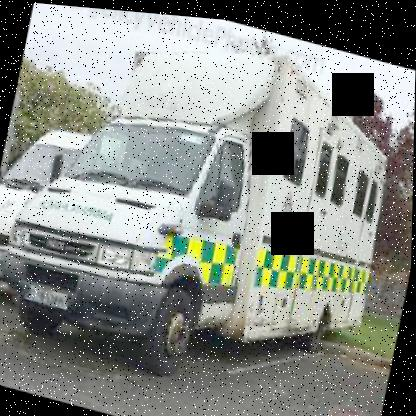emergency: (0, 0, 416, 415)
not_emergency: (0, 107, 132, 324)
